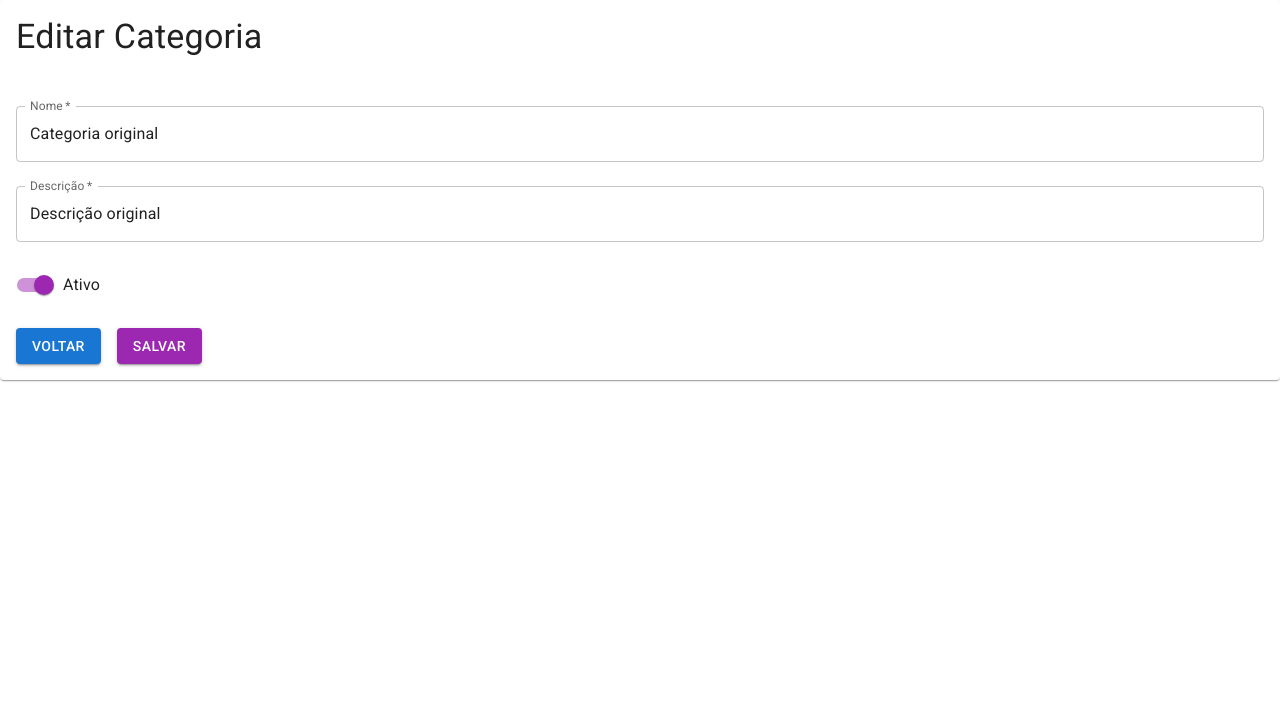
it: Edição de categoria › deve manter o formulário e informar quando a atualização falhar
Replace the text in the field labelled "Nome" with "Alteração com erro" at x=640, y=134, box [16,106,1264,162]
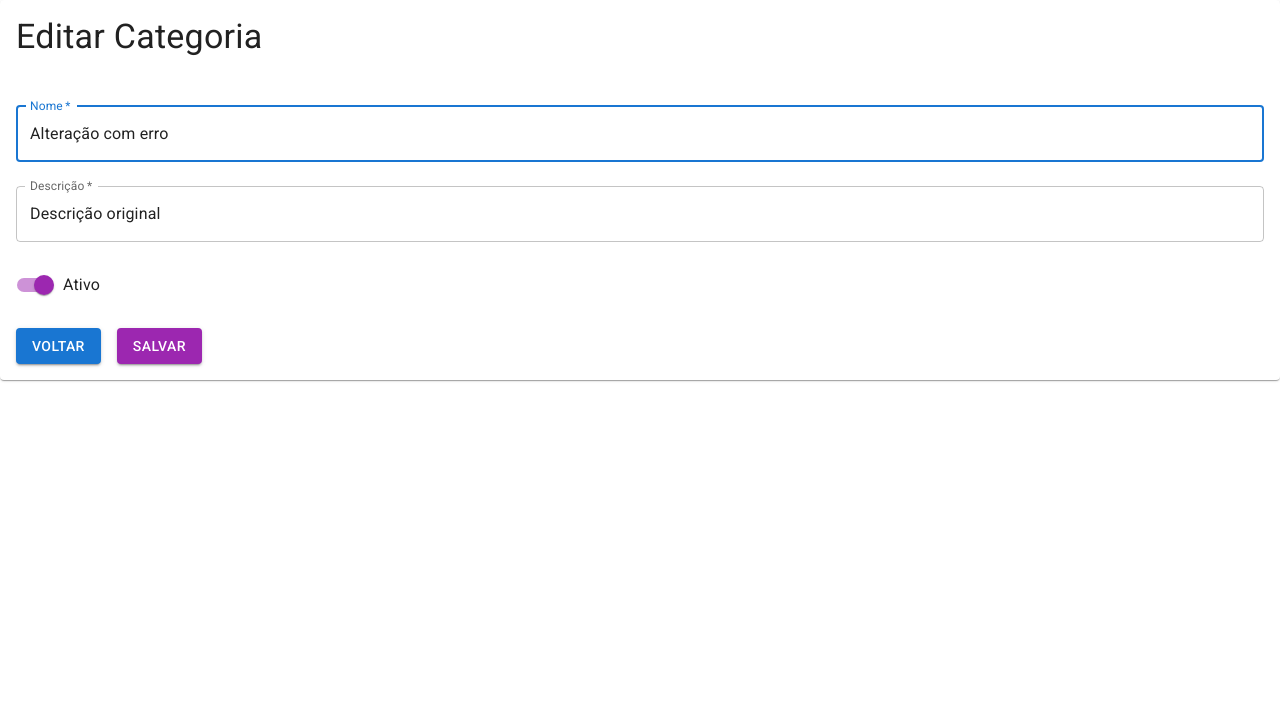
Click the button "Salvar".
click(159, 346)  # box [117,328,202,364]
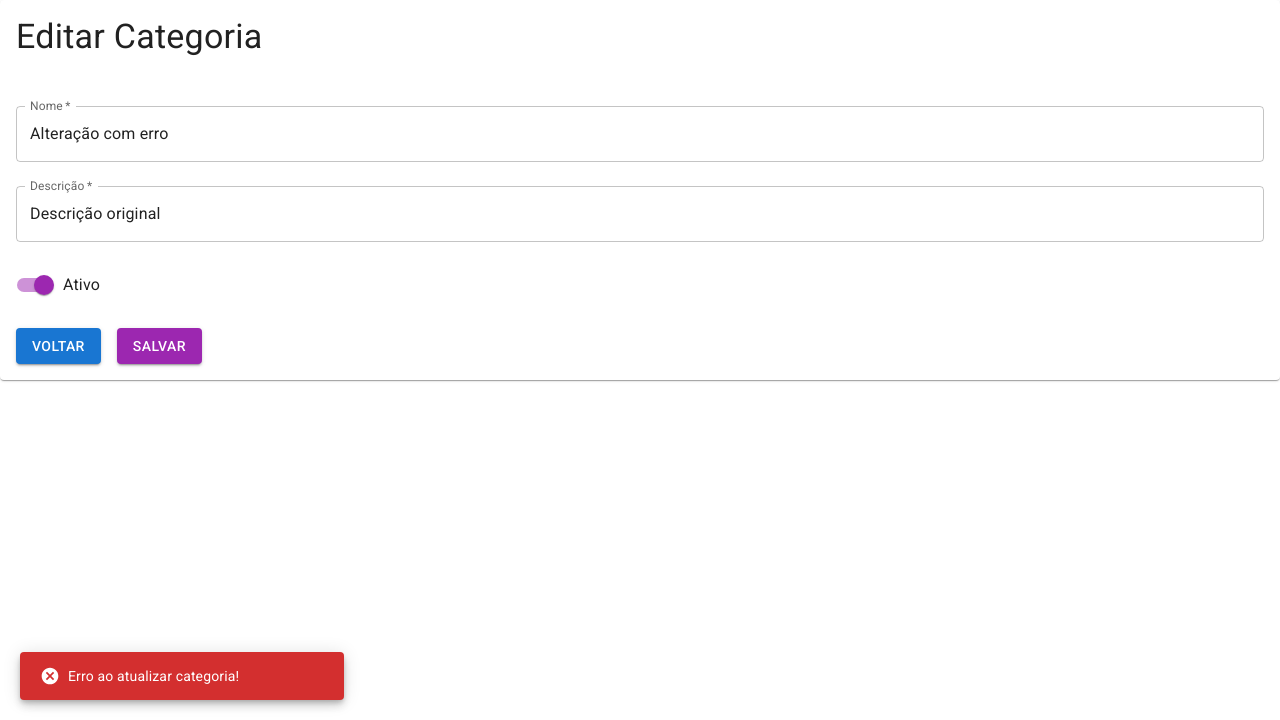
Expected: the heading "Editar Categoria" is shown, [16,16,263,56]
Expected: the text "Erro ao atualizar categoria!" is shown, [40,666,239,686]
